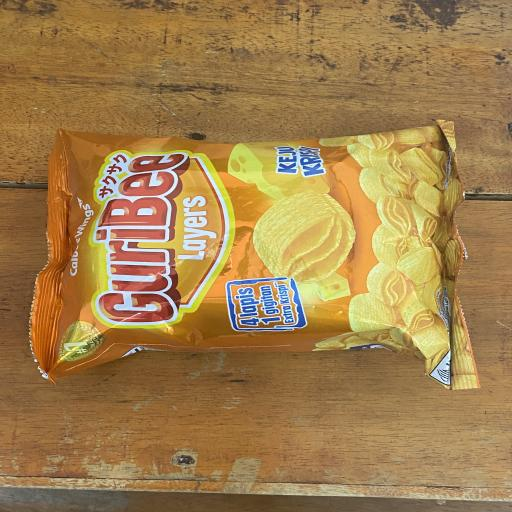Guribee Layers Keju Cripsy: (47, 125, 466, 377)
